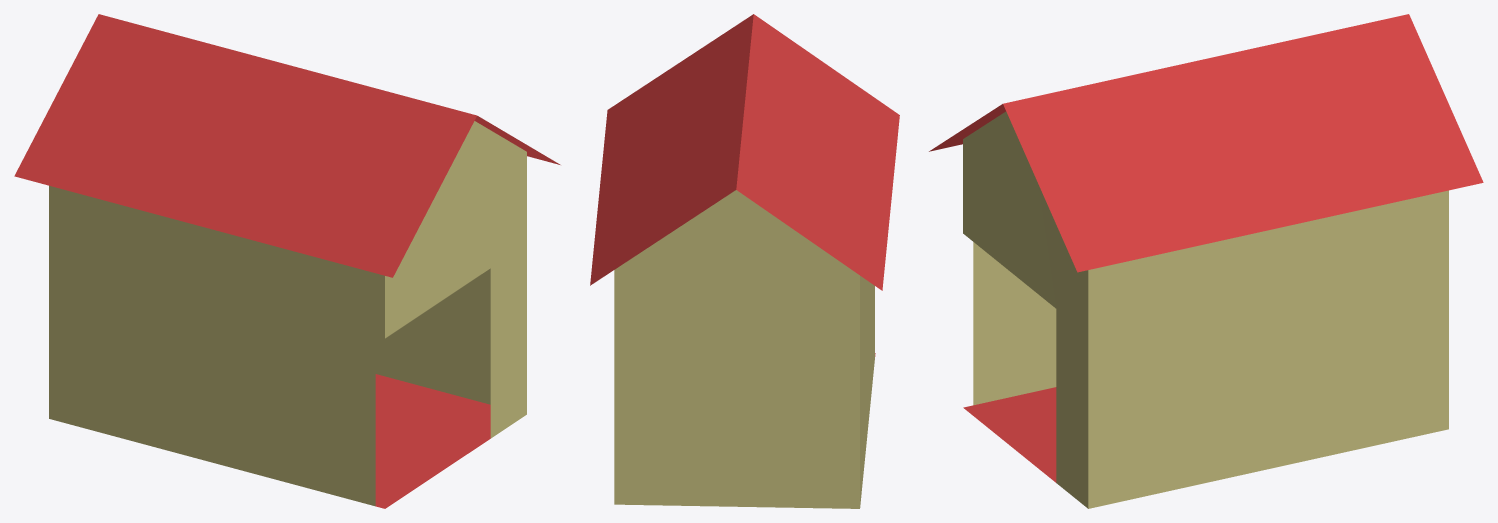
3 views of the same model, side by side, from view 1: azimuth 30°, elevation 25°; view 2: azimuth 150°, elevation 25°; view 3: azimuth 270°, elevation 25° (orthographic). The views are drawn at different scales.
Bounding box in the file's own units: 14.5 × 16.18 × 11.56.
